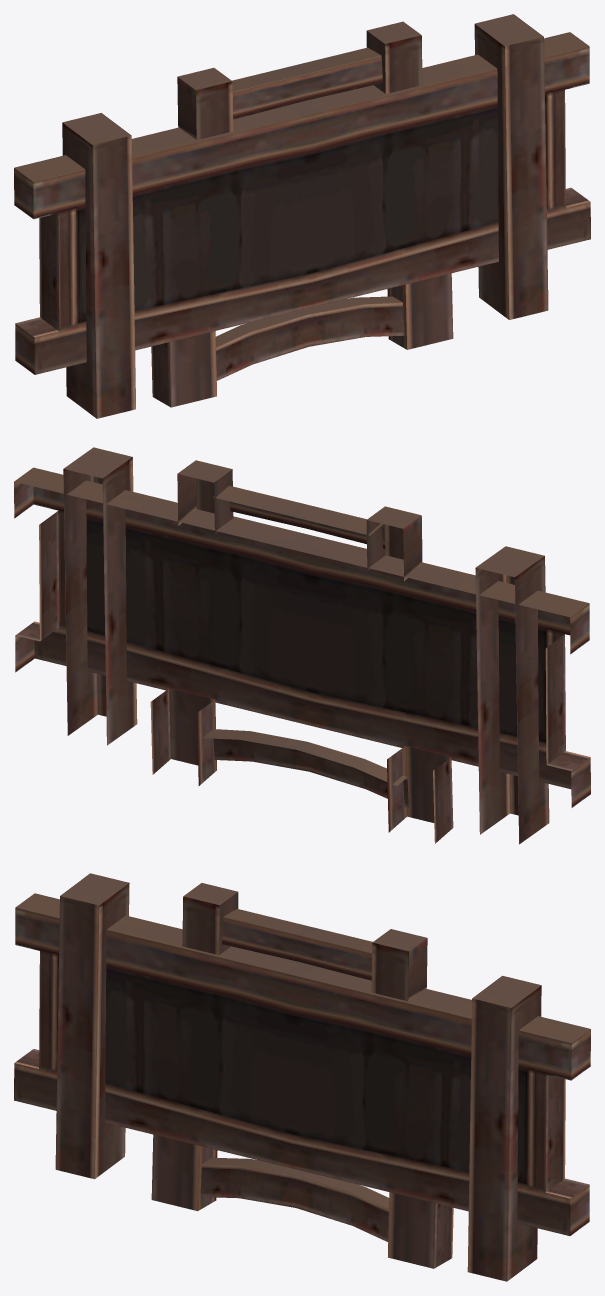
The model's file is FH_Env_MenPai_04.FBX.
3 views of the same model, one above another, from view 1: azimuth 30°, elevation 25°; view 2: azimuth 150°, elevation 25°; view 3: azimuth 330°, elevation 25° (orthographic).
Visible parts, largest first — view 1: Object02; view 2: Object02; view 3: Object02.
Boxes of the visible parts, bbox=[...] form: Object02: bbox=[14, 14, 590, 418]; Object02: bbox=[14, 447, 590, 844]; Object02: bbox=[14, 873, 590, 1281].
Size of the model in its own units: 6.1 by 3.26 by 0.6606.
